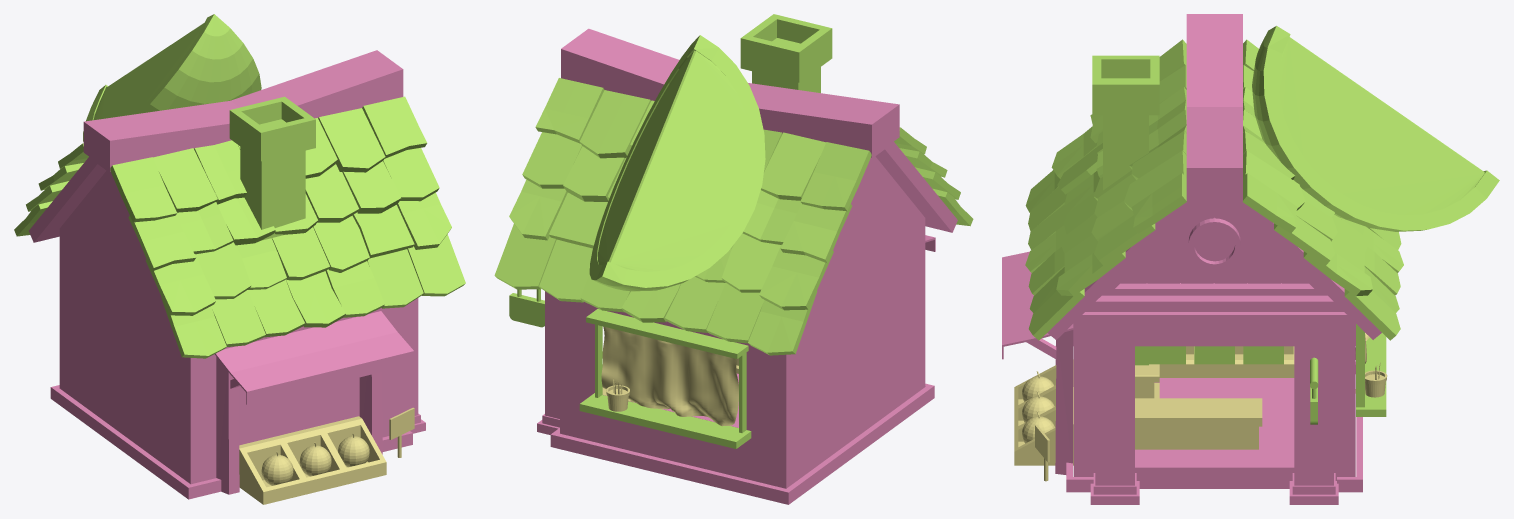
The model's file is shop_fruit_01.fbx.
The picture shows the model from 3 angles, left to right: view 1: azimuth 30°, elevation 25°; view 2: azimuth 150°, elevation 25°; view 3: azimuth 270°, elevation 25°; orthographic projection. The views are drawn at different scales.
Parts seen in each view (by area): view 1: deco_04_l; view 2: deco_04_l; view 3: deco_04_l.
Part boxes in pixels (x1,y1,x2,y2): deco_04_l: (14,14,465,504); deco_04_l: (494,14,973,504); deco_04_l: (1002,14,1499,504).
Size of the model in its own units: 1482 by 1744 by 1903.
